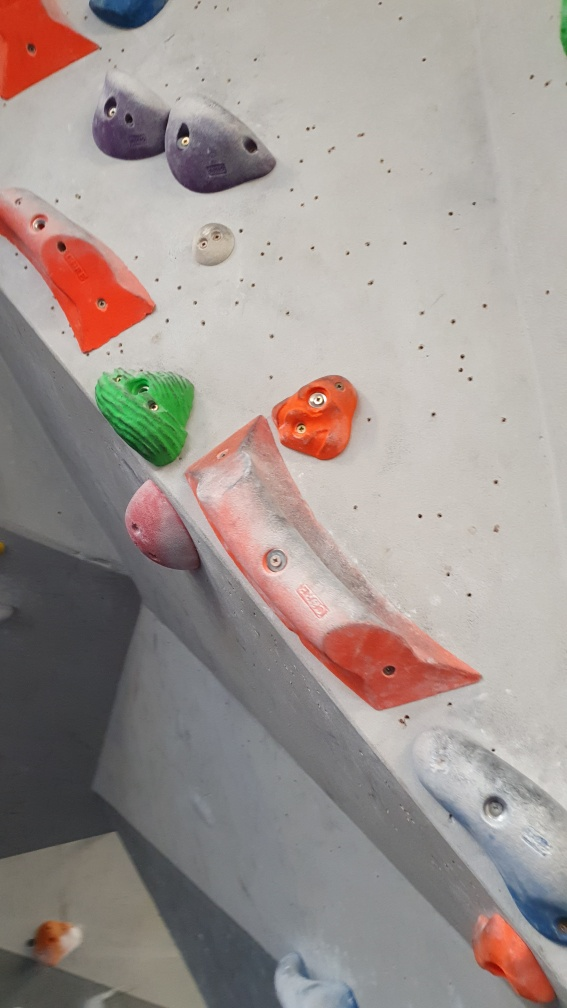Jug: (159, 94, 277, 194), (94, 362, 197, 467), (92, 70, 171, 162), (270, 954, 363, 1008)
Pinch: (187, 414, 486, 712), (416, 721, 567, 938), (1, 183, 160, 357), (1, 1, 101, 111)
Sloper: (125, 471, 204, 572)
